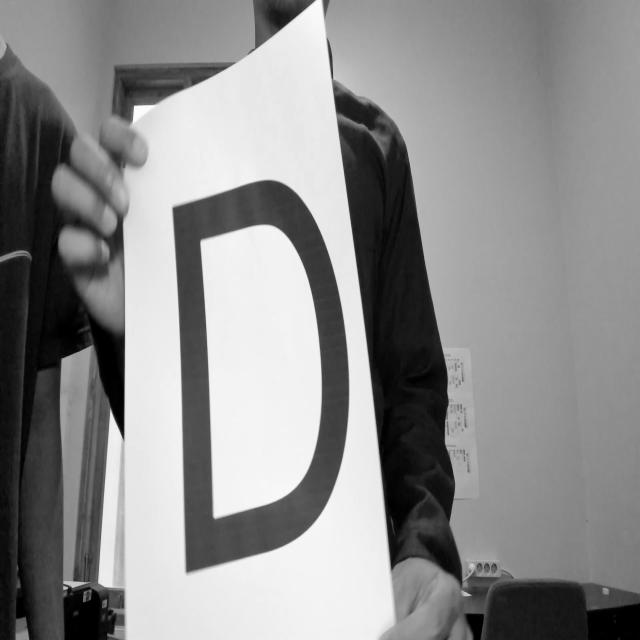d: (160, 159, 358, 579)
